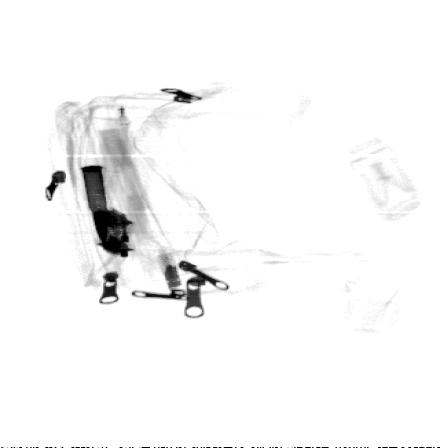Bullet: (80, 163, 109, 249)
